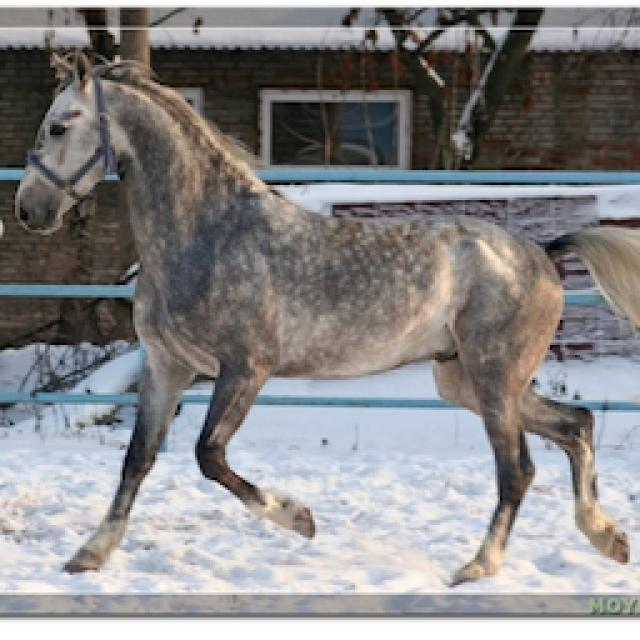Horse: (5, 42, 638, 590)
